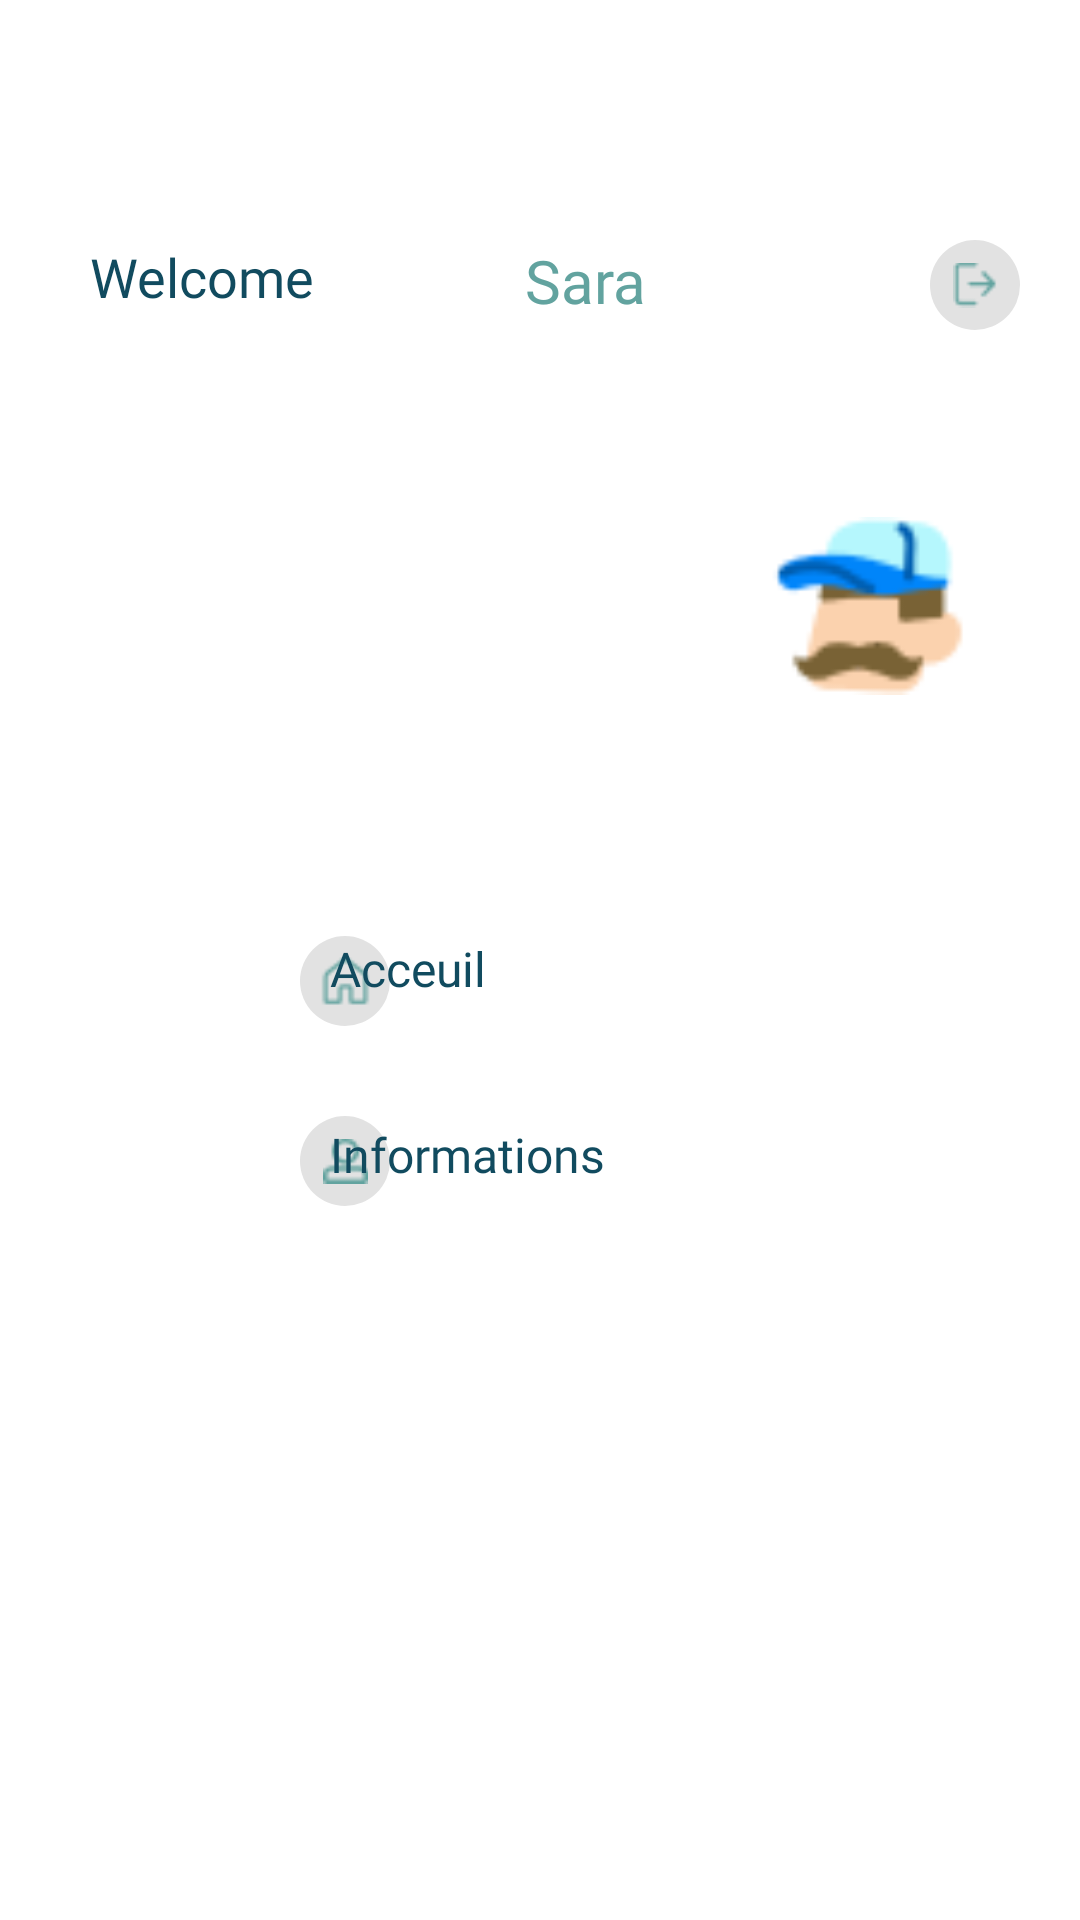

Named icons in this screenshot (1080×1920) and their centers, (x,y):
employee: (869,607)
